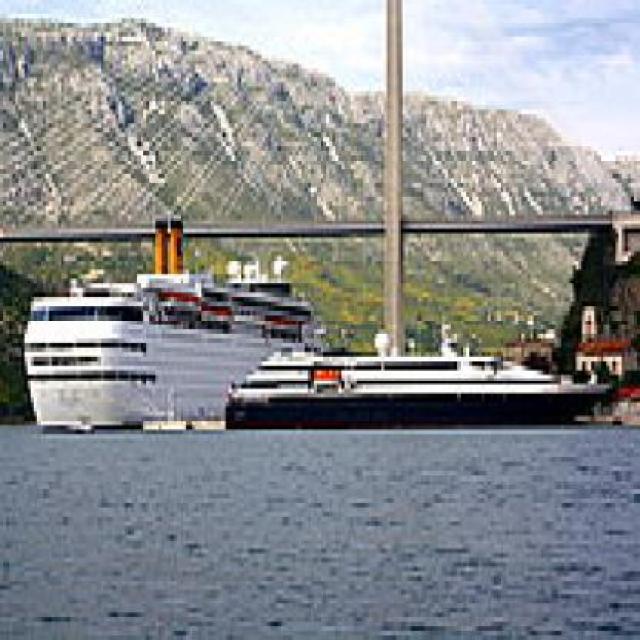cruise: (17, 202, 328, 431)
